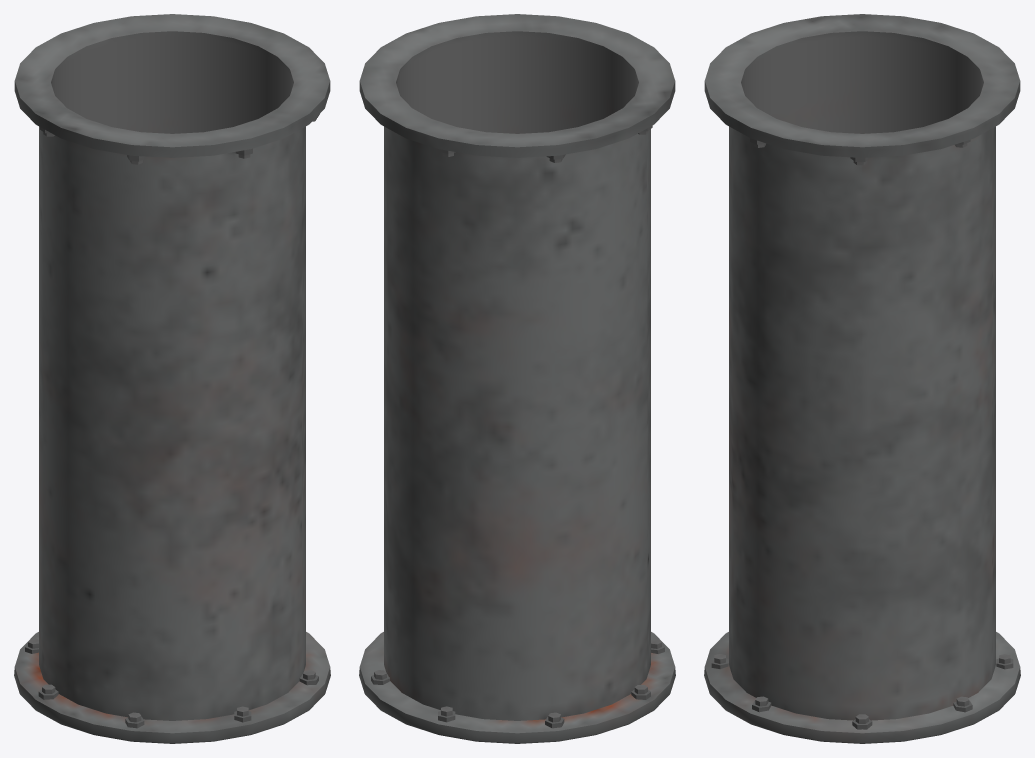
Rendered from CanoRetoCurto.glb.
The picture shows the model from 3 angles, left to right: view 1: azimuth 30°, elevation 25°; view 2: azimuth 150°, elevation 25°; view 3: azimuth 270°, elevation 25°; orthographic projection.
Visible parts, largest first — view 1: Pipe_Straight3_ModularPipes_Large_0; view 2: Pipe_Straight3_ModularPipes_Large_0; view 3: Pipe_Straight3_ModularPipes_Large_0.
Part boxes in pixels (box(x1,y1,x2,y2)): Pipe_Straight3_ModularPipes_Large_0: box(14, 14, 330, 743); Pipe_Straight3_ModularPipes_Large_0: box(359, 14, 675, 743); Pipe_Straight3_ModularPipes_Large_0: box(704, 14, 1020, 743).
Bounding box in the file's own units: 2.4 × 4.99 × 2.4.
1 material, 1 textured.
